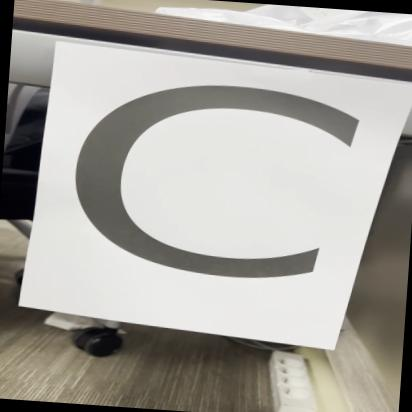seat: (36, 34, 375, 350)
